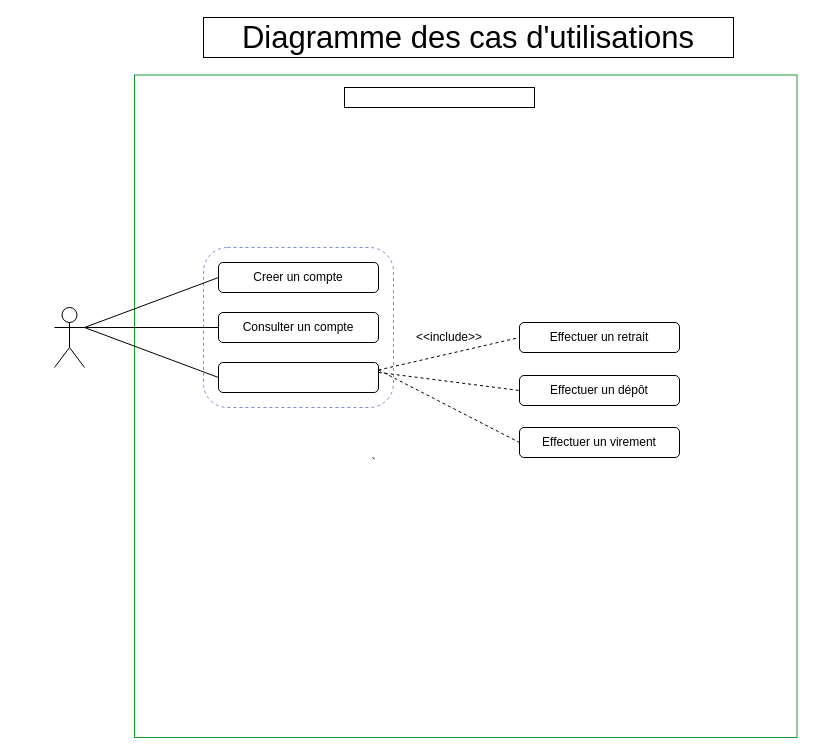
Image size: 815x755. Some labels were removed from this diagram. The shapes that lost their labels are listed below. From the top down, each one's centre as x and y in pixels, then its label:
At (x=439, y=97): "Bank Application".
At (x=69, y=337): "Conseiller Bancaire".
At (x=298, y=377): "Effectuer une operation".
